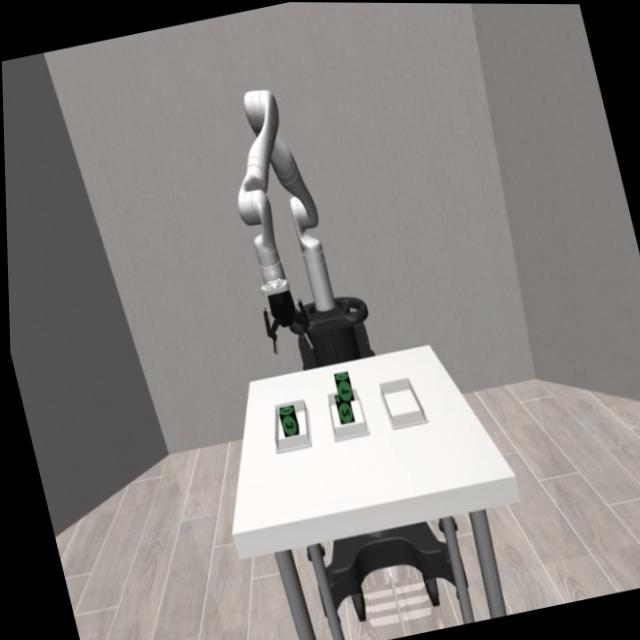cube1: (331, 369, 351, 403)
cube2: (332, 392, 352, 426)
cube3: (274, 402, 298, 439)
